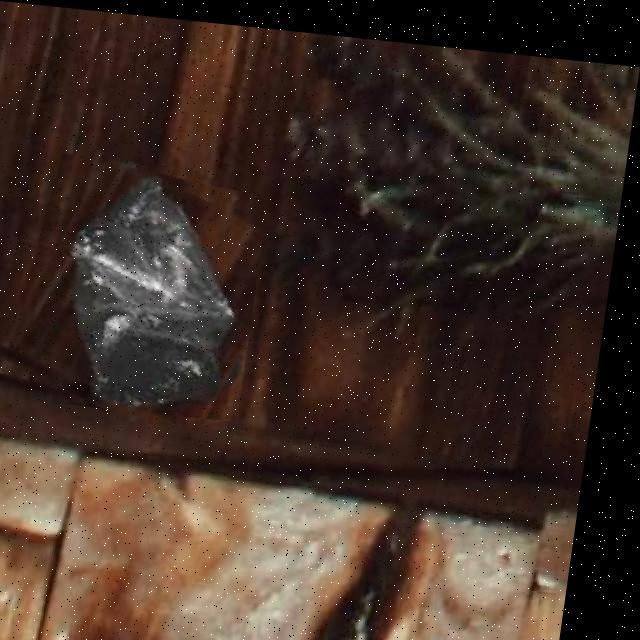litter: (12, 147, 276, 414)
